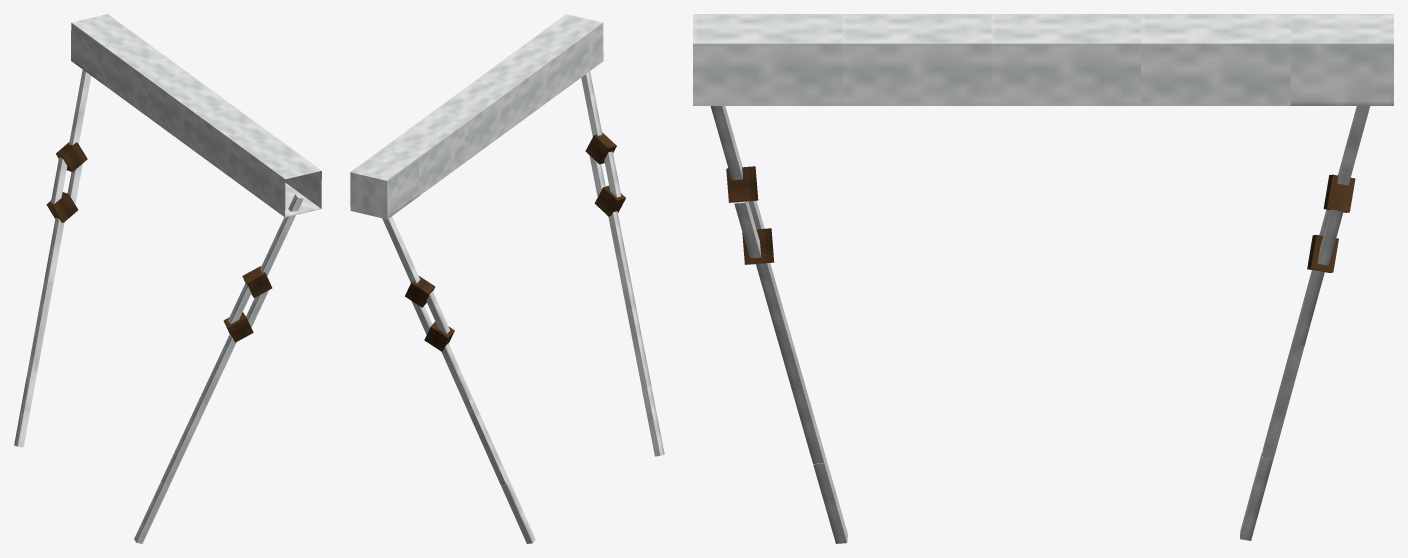
Rendered from cog_segel_1_0.obj.
The picture shows the model from 3 angles, left to right: view 1: azimuth 30°, elevation 25°; view 2: azimuth 150°, elevation 25°; view 3: azimuth 270°, elevation 25°; orthographic projection. The views are drawn at different scales.
Parts seen in each view (by area): view 1: cube; view 2: cube; view 3: cube.
Boxes of the visible parts, x1,y1,x2,y2 form: cube: (14,14,321,543); cube: (350,14,664,543); cube: (693,14,1393,543).
Bounding box in the file's own units: 1.45 × 3.66 × 3.81.
